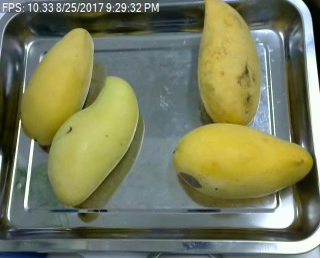Mango: (48, 77, 138, 204), (172, 123, 314, 200), (18, 26, 95, 147), (199, 0, 260, 125)
